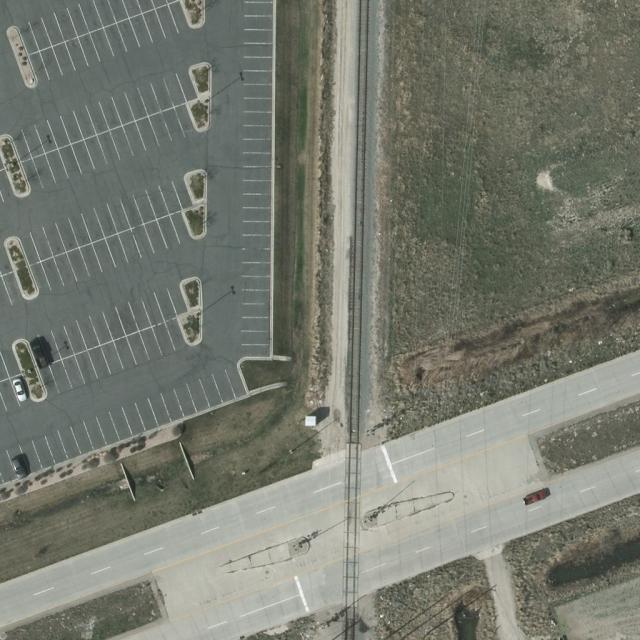vehicle: (522, 490, 547, 508), (10, 458, 30, 480), (12, 379, 28, 403)
